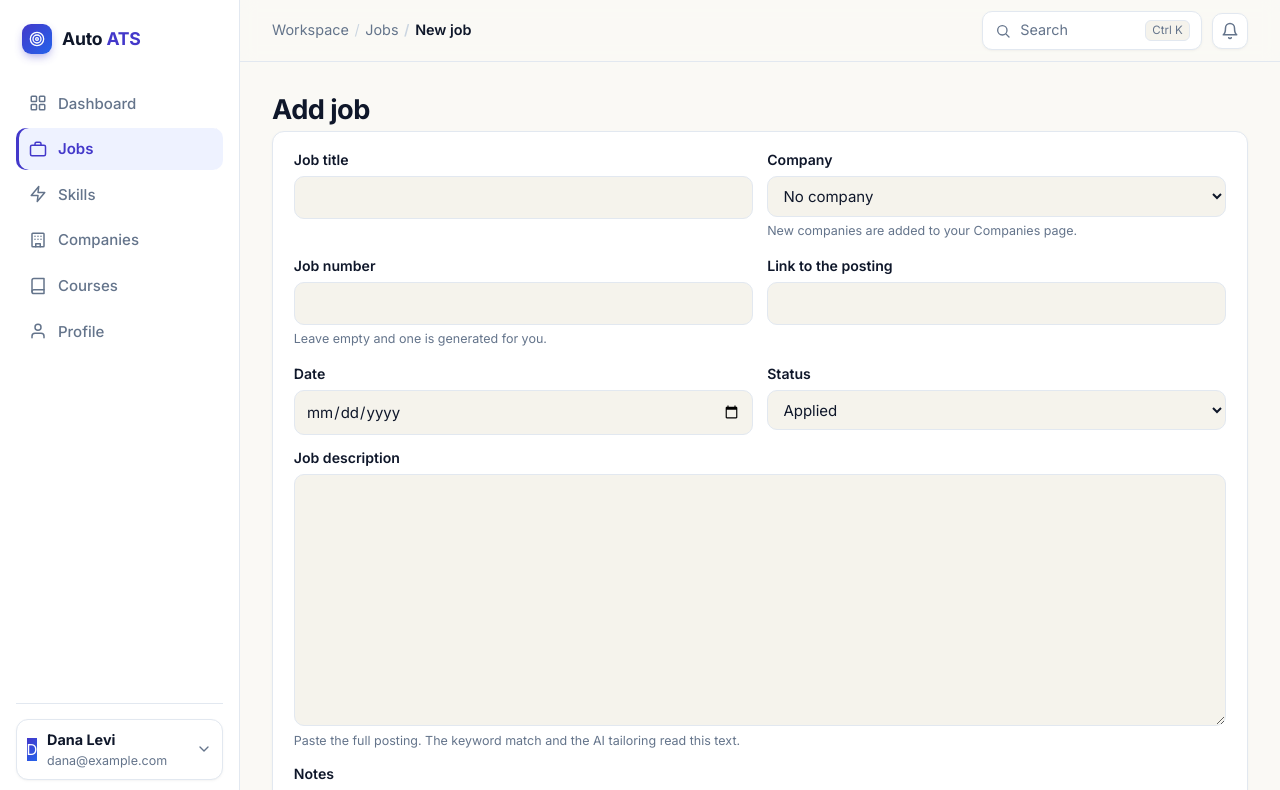
Scenario: JobFormPage create › GivenNewCompany_WhenSaving_ThenCompanyIsCreatedAndLinkedToTheJob
Step 1. Select "+ Add new company…" in the dropdown labelled "Company" → (997, 196), box 767,176 -> 1226,216
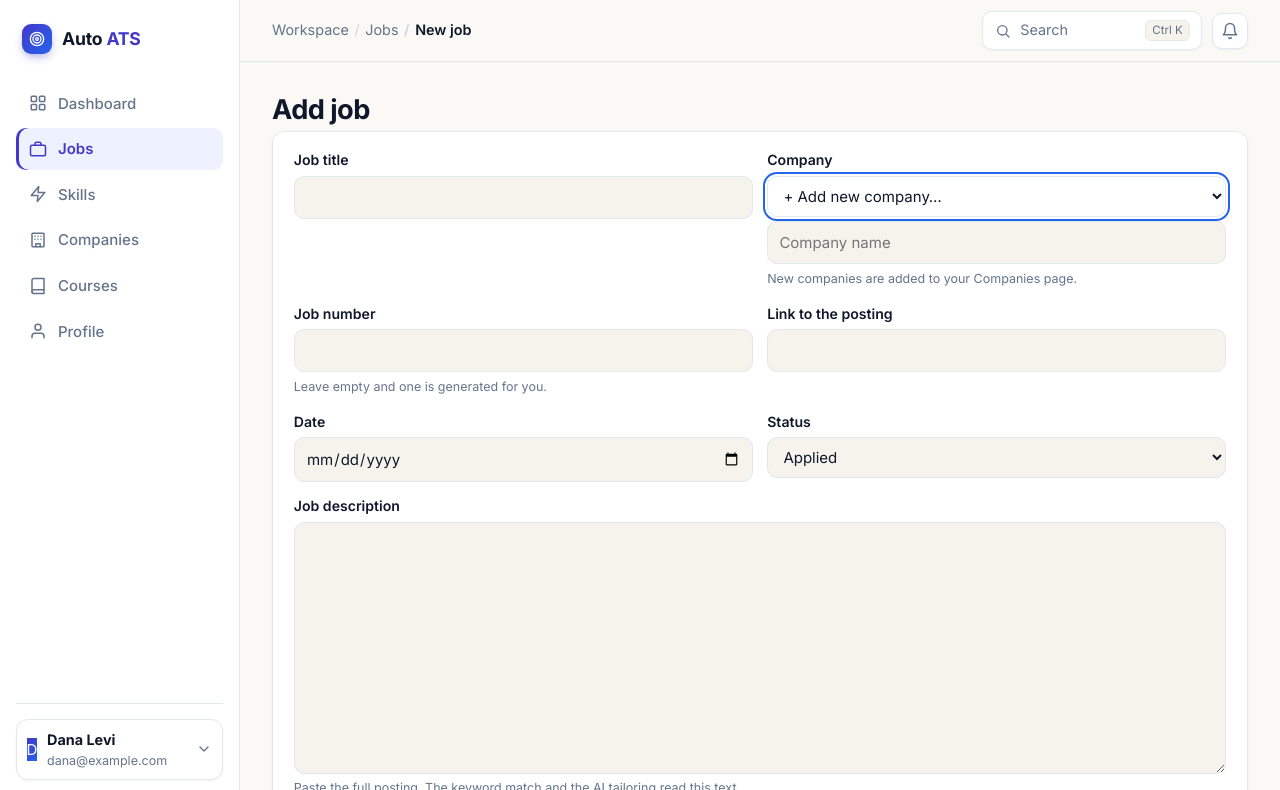
Step 2. Type "Globex" into the field named "New company name" → (997, 243), box 767,221 -> 1226,264
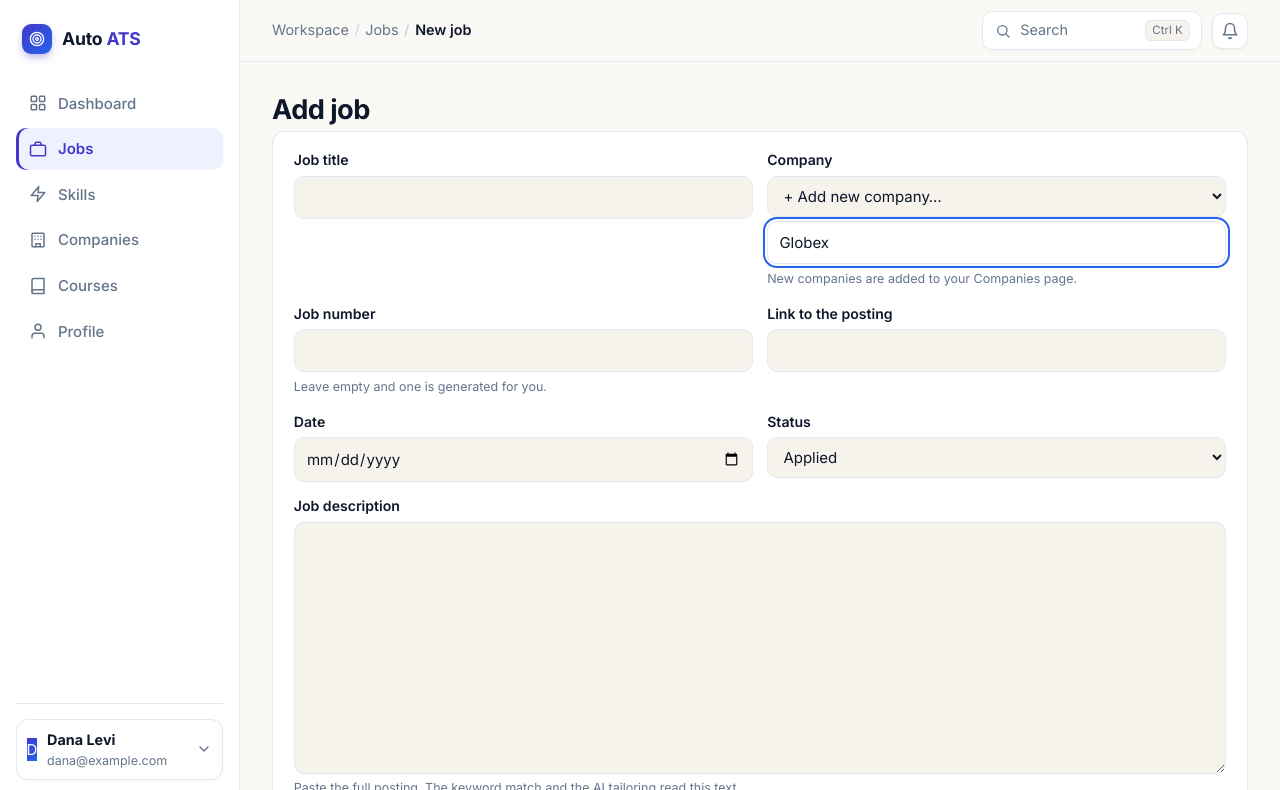
Step 3. Type "Build things" into the text box labelled "Job description" → (760, 648), box 294,522 -> 1226,774
(page scrolled)
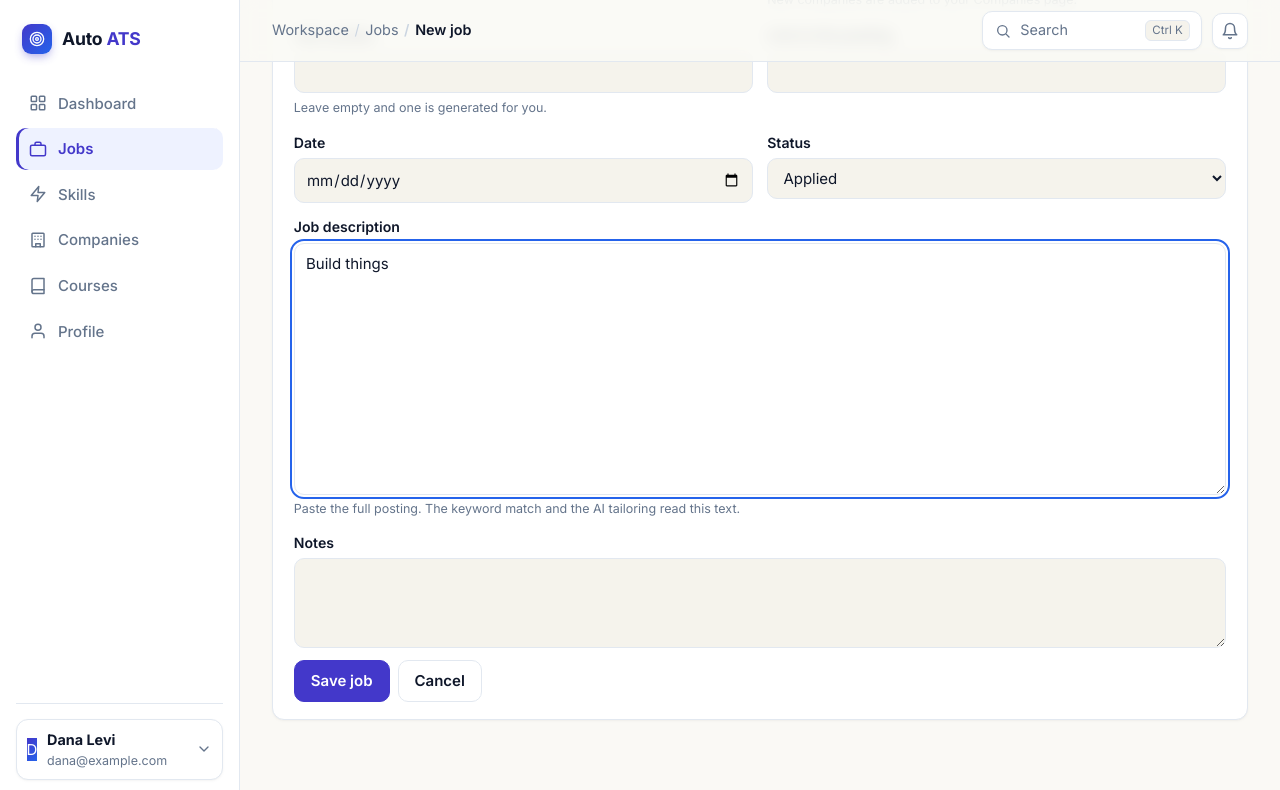
Step 4. Click the button "Save job" → (342, 681), box 294,660 -> 390,702
(page scrolled)
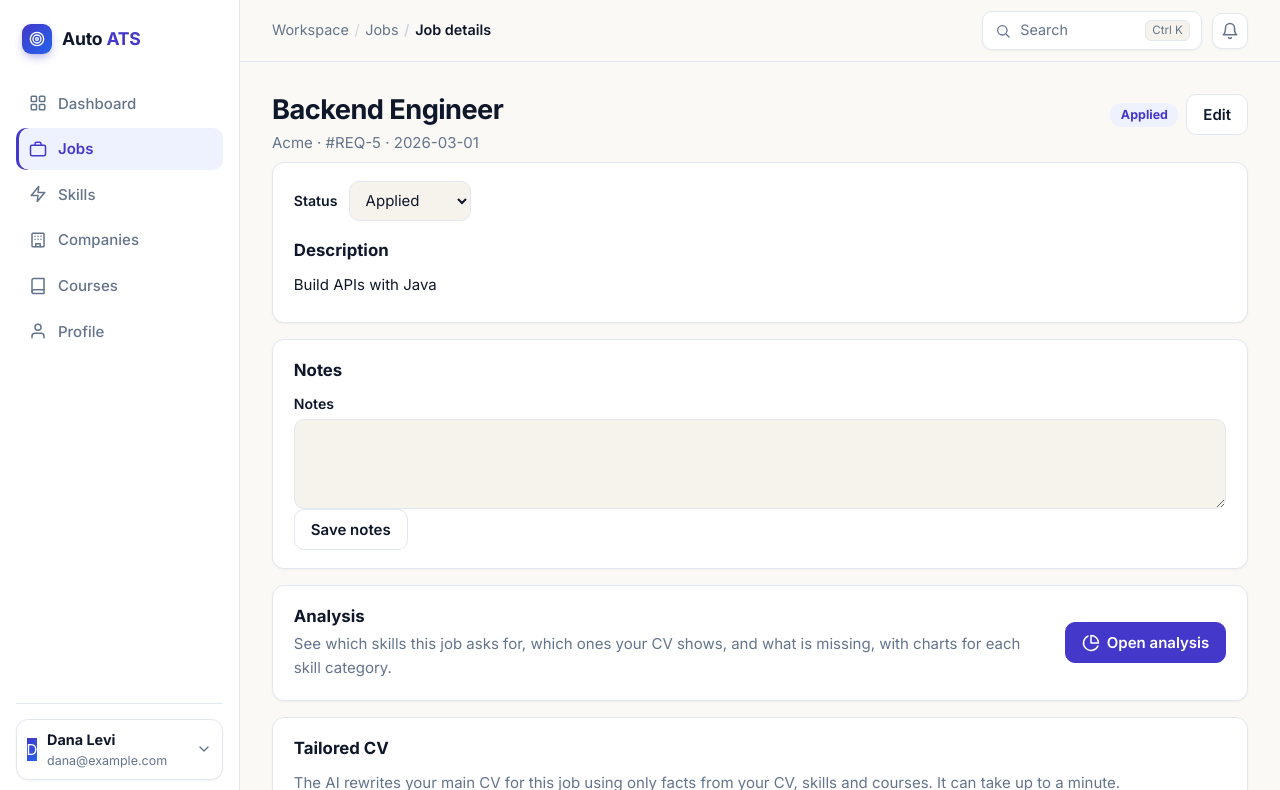
Expected: the heading "Backend Engineer" is shown, 272,94 -> 503,127
